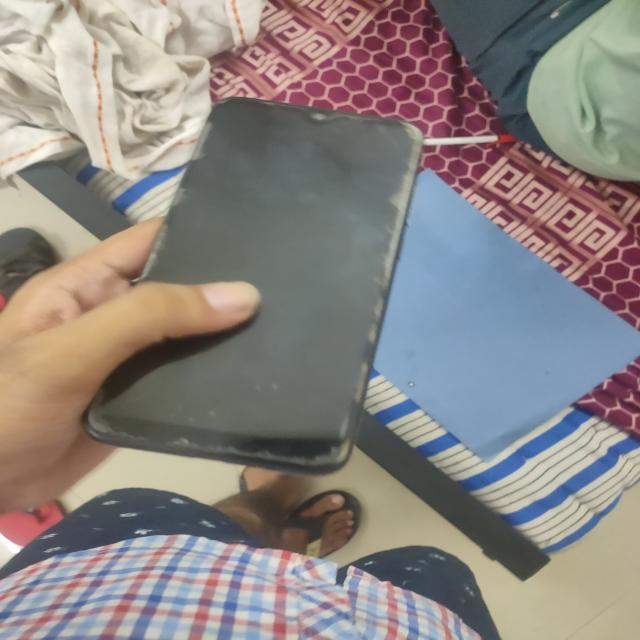Phone: (80, 98, 430, 477)
